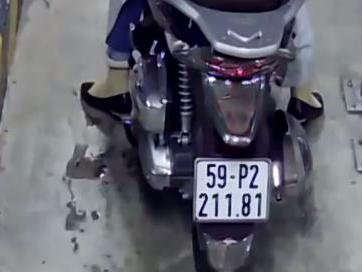num_plate: (194, 158, 270, 221)
